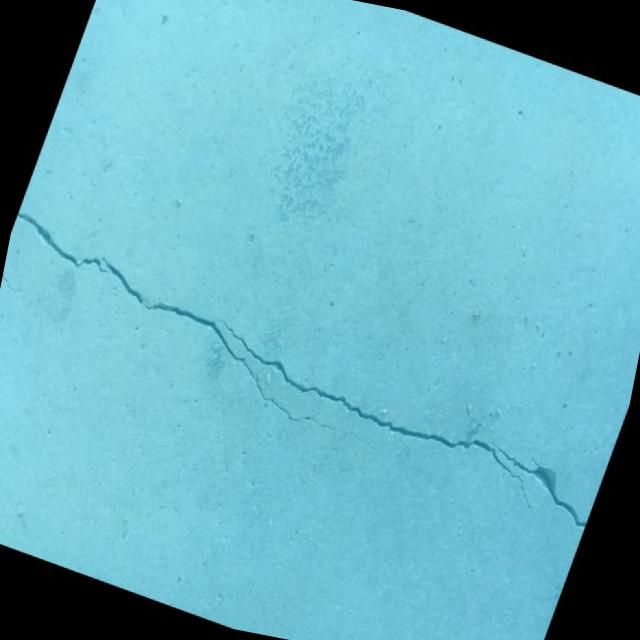crack: (0, 210, 639, 533), (0, 270, 31, 297)
